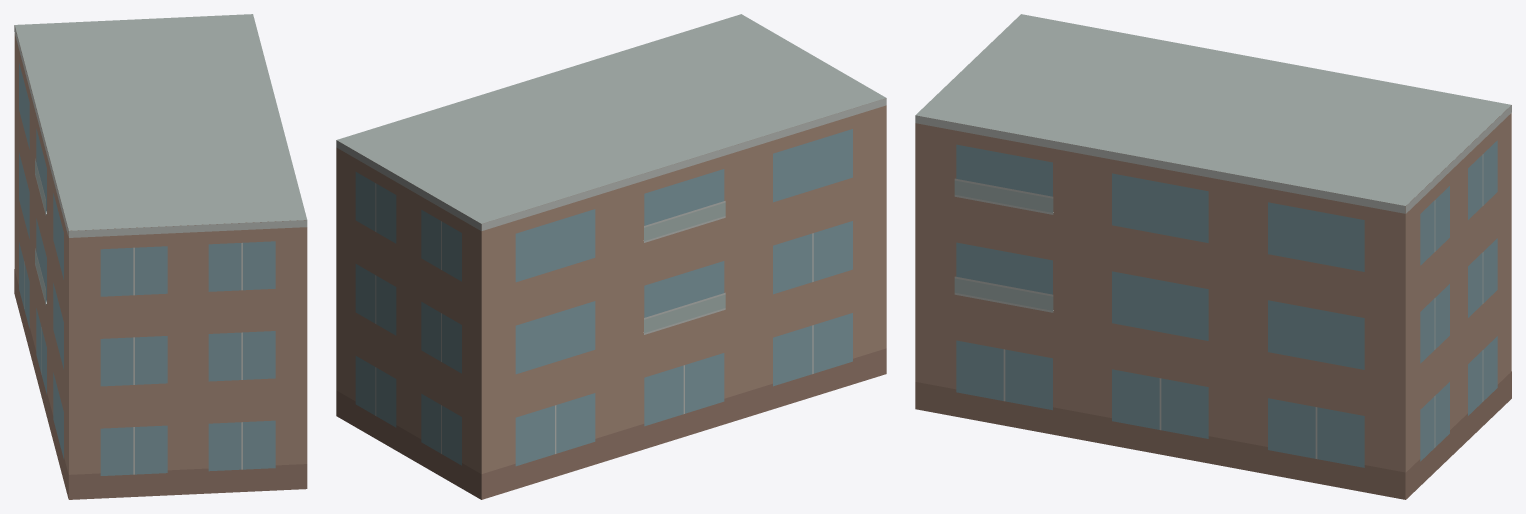
File: survey-upis-32718979.glb
3 renders of one model, left to right at view 1: azimuth 30°, elevation 25°; view 2: azimuth 150°, elevation 25°; view 3: azimuth 270°, elevation 25°, orthographic. The views are drawn at different scales.
Parts seen in each view (by area): view 1: survey-upis-32718979.tmp; view 2: survey-upis-32718979.tmp; view 3: survey-upis-32718979.tmp.
Boxes of the visible parts, box(x1,y1,x2,y2) form: survey-upis-32718979.tmp: box(14, 14, 307, 499); survey-upis-32718979.tmp: box(336, 14, 886, 499); survey-upis-32718979.tmp: box(915, 14, 1511, 499).
Bounding box in the file's own units: 12.84 × 9.15 × 16.84.
